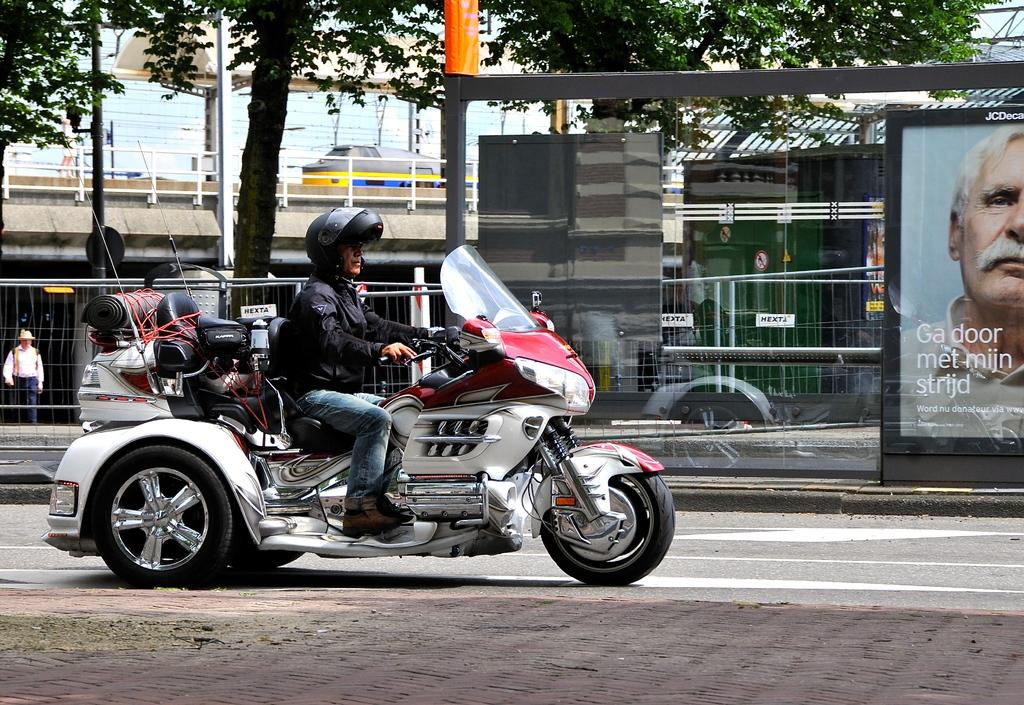helmet: (304, 206, 384, 275)
